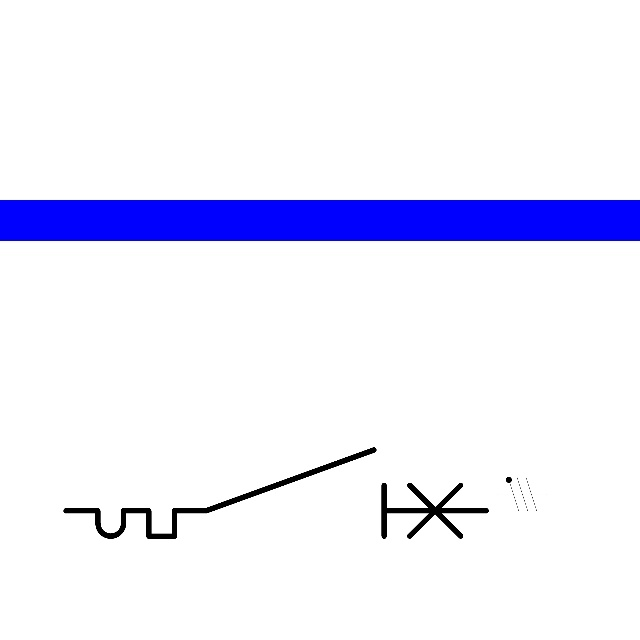interruptor_termomagnetico: (55, 439, 497, 547)
